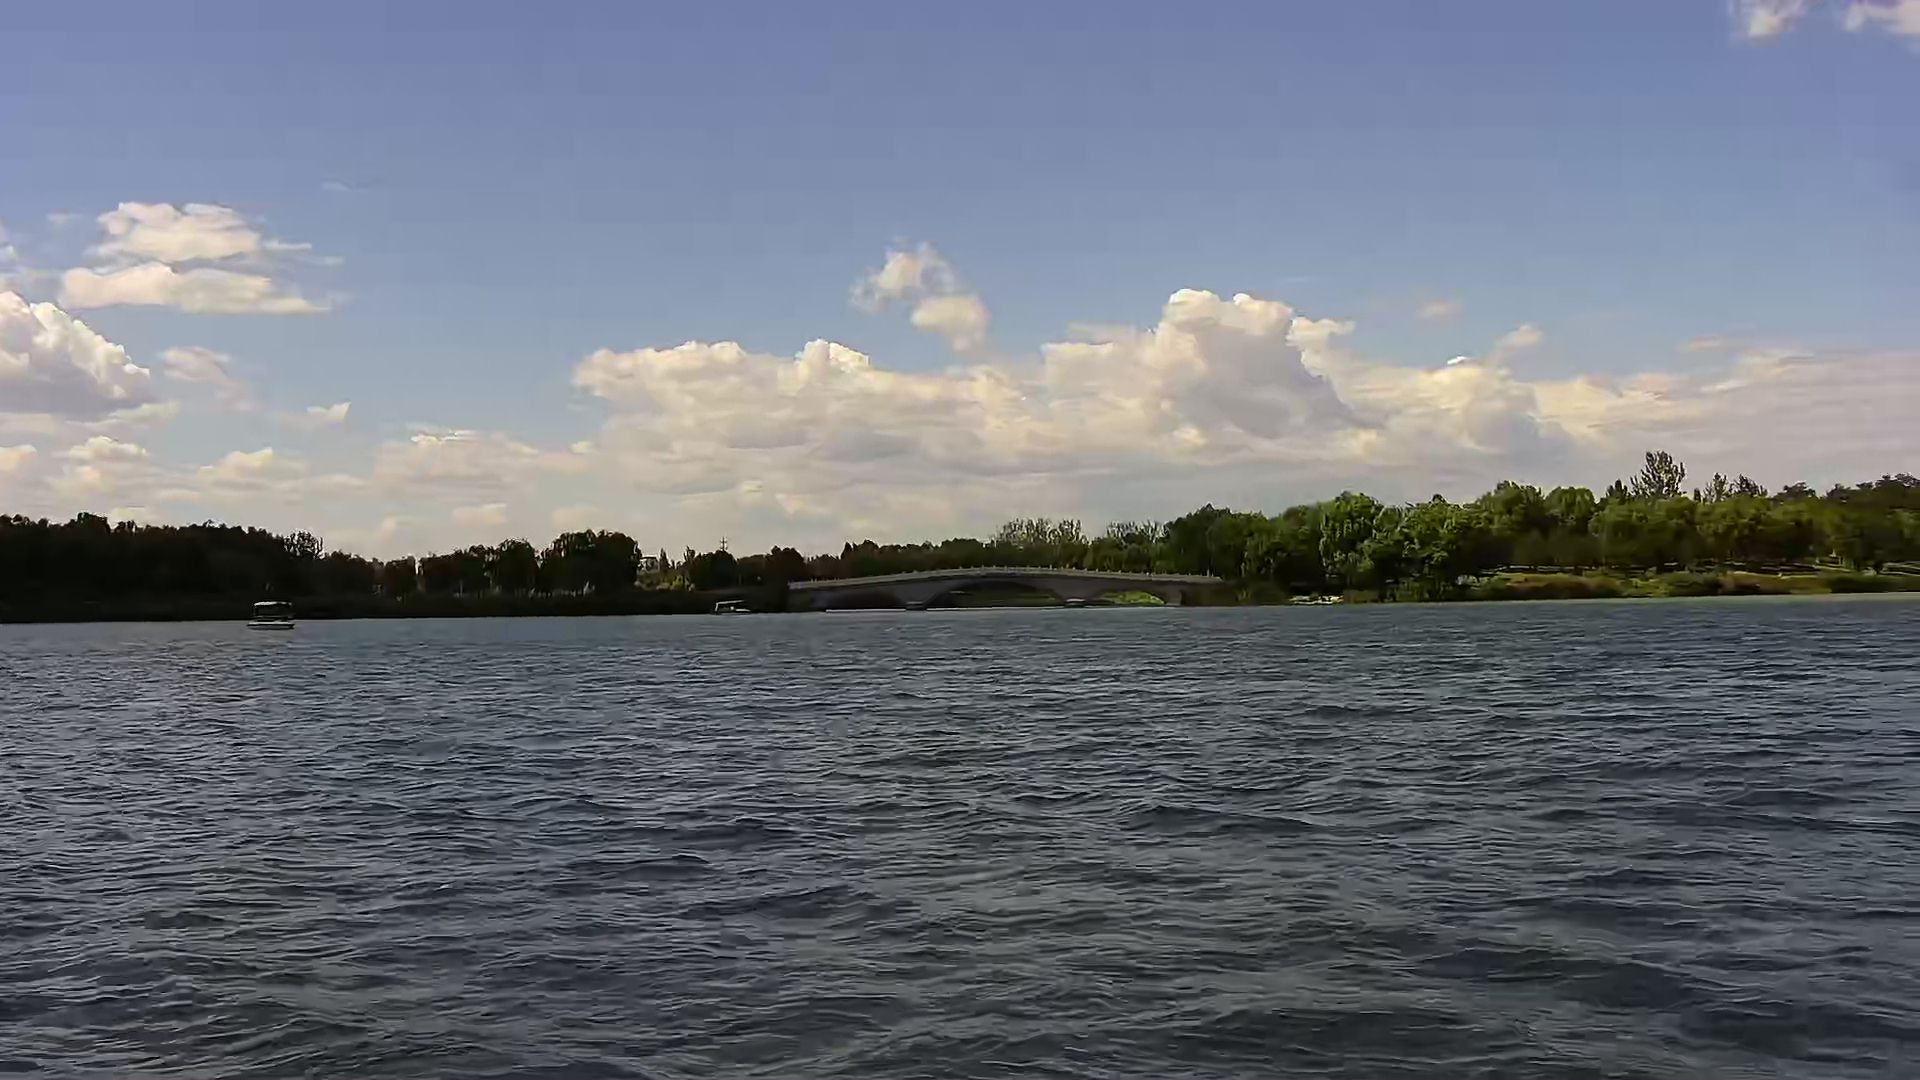boat: (247, 593, 302, 636)
bridge: (787, 563, 1228, 611)
